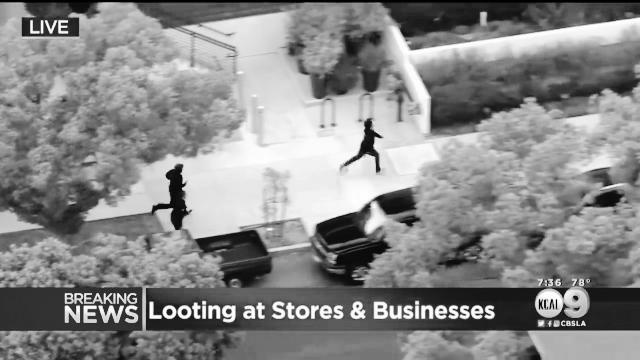berlari: (145, 154, 195, 222), (338, 115, 388, 178)
